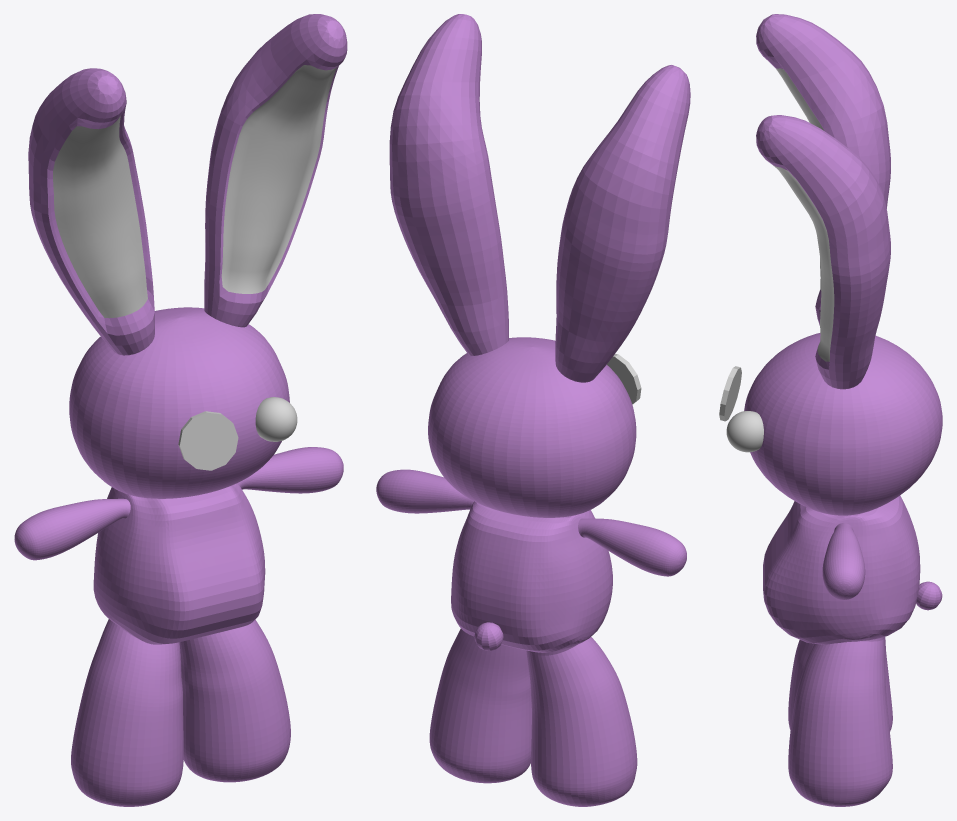
3 renders of one model, left to right at view 1: azimuth 30°, elevation 25°; view 2: azimuth 150°, elevation 25°; view 3: azimuth 270°, elevation 25°, orthographic. The views are drawn at different scales.
Parts seen in each view (by area): view 1: Cylinder_008, Cylinder_002, Cylinder_003, Cylinder, Cylinder_005, Cylinder_006, Cylinder_004, Cylinder_001, Sphere; view 2: Cylinder, Cylinder_003, Cylinder_008, Cylinder_005, Cylinder_006, Cylinder_004, Cylinder_001; view 3: Cylinder, Cylinder_003, Cylinder_005, Cylinder_008, Cylinder_002, Cylinder_004, Sphere, Cylinder_001.
Part boxes in pixels (bbox=[...]): Cylinder_008: bbox=[71, 619, 290, 806]; Cylinder_002: bbox=[53, 65, 336, 318]; Cylinder_003: bbox=[69, 307, 289, 498]; Cylinder: bbox=[28, 14, 347, 355]; Cylinder_005: bbox=[93, 483, 265, 644]; Cylinder_006: bbox=[14, 498, 130, 560]; Cylinder_004: bbox=[238, 447, 343, 493]; Cylinder_001: bbox=[178, 411, 238, 470]; Sphere: bbox=[255, 397, 297, 441]; Cylinder: bbox=[389, 14, 690, 651]; Cylinder_003: bbox=[428, 337, 636, 517]; Cylinder_008: bbox=[429, 628, 637, 806]; Cylinder_005: bbox=[451, 501, 612, 652]; Cylinder_006: bbox=[578, 518, 686, 576]; Cylinder_004: bbox=[376, 469, 473, 513]; Cylinder_001: bbox=[607, 354, 641, 404]; Cylinder: bbox=[756, 14, 942, 610]; Cylinder_003: bbox=[744, 333, 942, 515]; Cylinder_005: bbox=[763, 495, 920, 644]; Cylinder_008: bbox=[788, 637, 892, 806]; Cylinder_002: bbox=[773, 68, 834, 361]; Cylinder_004: bbox=[822, 523, 865, 599]; Sphere: bbox=[726, 411, 763, 452]; Cylinder_001: bbox=[719, 366, 741, 421].
Size of the model in its own units: 1.89 by 1.22 by 4.26.
